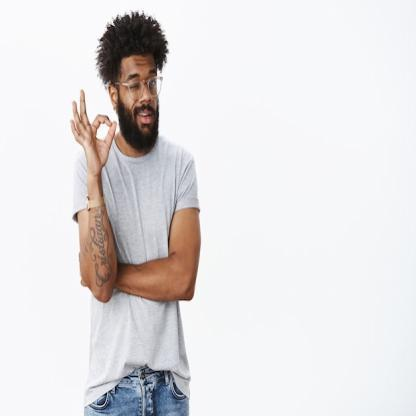ok: (70, 88, 118, 180)
